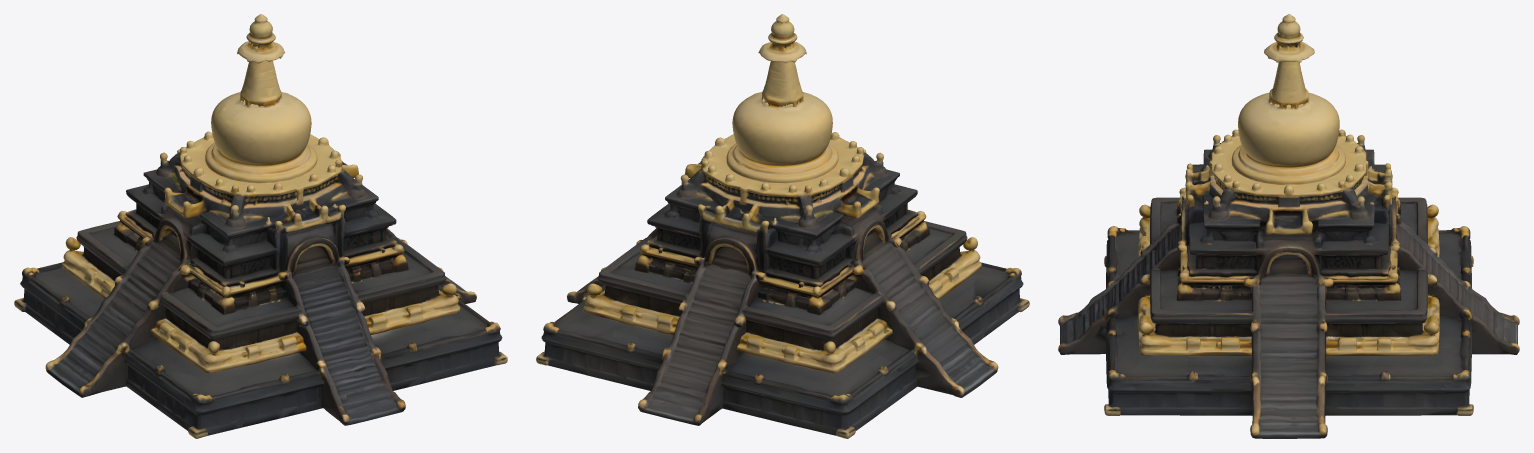
The model's file is building-stupa.glb.
3 views of the same model, side by side, from view 1: azimuth 30°, elevation 25°; view 2: azimuth 150°, elevation 25°; view 3: azimuth 270°, elevation 25° (orthographic).
Visible parts, largest first — view 1: tripo_node_8e9390c0-405c-450c-a67d-49e37a2f926b; view 2: tripo_node_8e9390c0-405c-450c-a67d-49e37a2f926b; view 3: tripo_node_8e9390c0-405c-450c-a67d-49e37a2f926b.
Boxes of the visible parts, bbox=[...] form: tripo_node_8e9390c0-405c-450c-a67d-49e37a2f926b: bbox=[14, 14, 507, 438]; tripo_node_8e9390c0-405c-450c-a67d-49e37a2f926b: bbox=[536, 14, 1029, 438]; tripo_node_8e9390c0-405c-450c-a67d-49e37a2f926b: bbox=[1058, 14, 1519, 438].
Size of the model in its own units: 15.39 by 12 by 15.33.
1 material, 1 textured.
